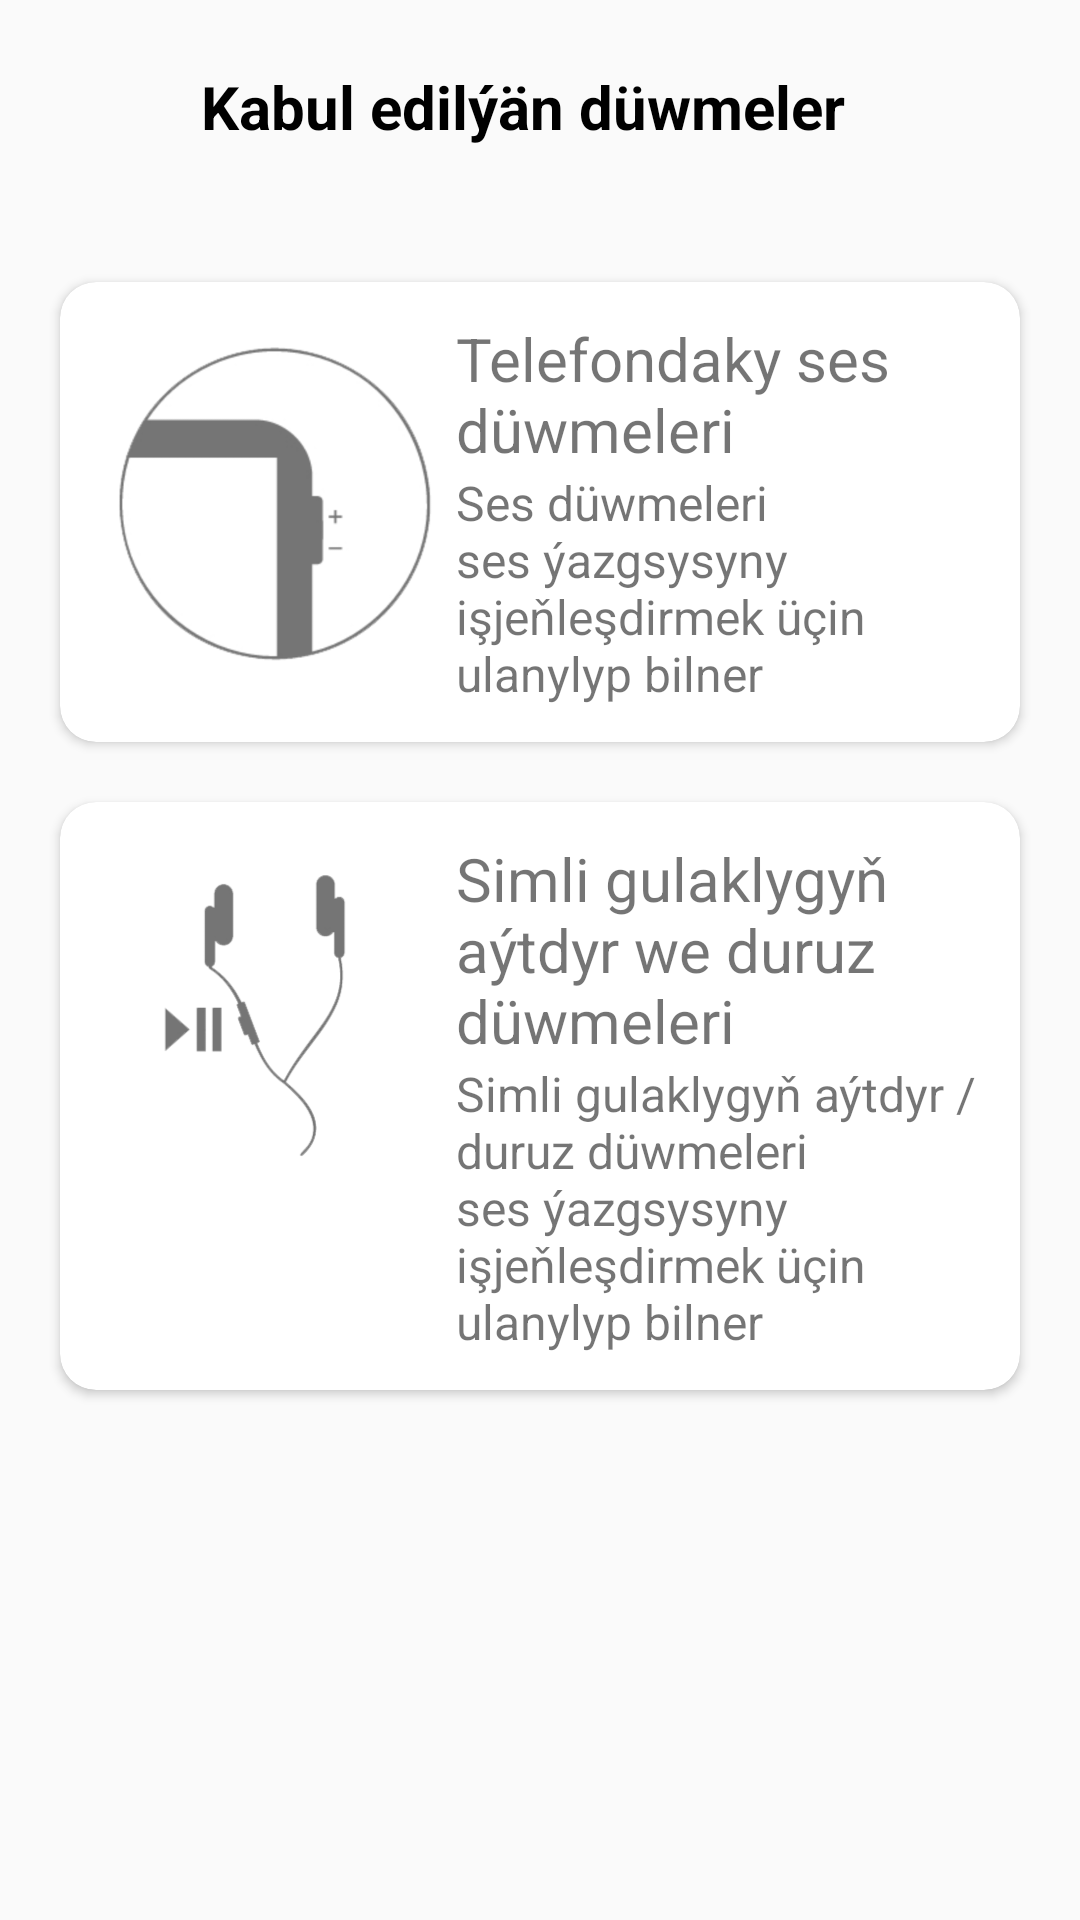

Icon bounding boxes for this 1080*1920 phone screenshot, format (x1, y1, x2, y2):
play pause ptt: (165, 875, 345, 1156)
volumeptt: (119, 347, 431, 660)
